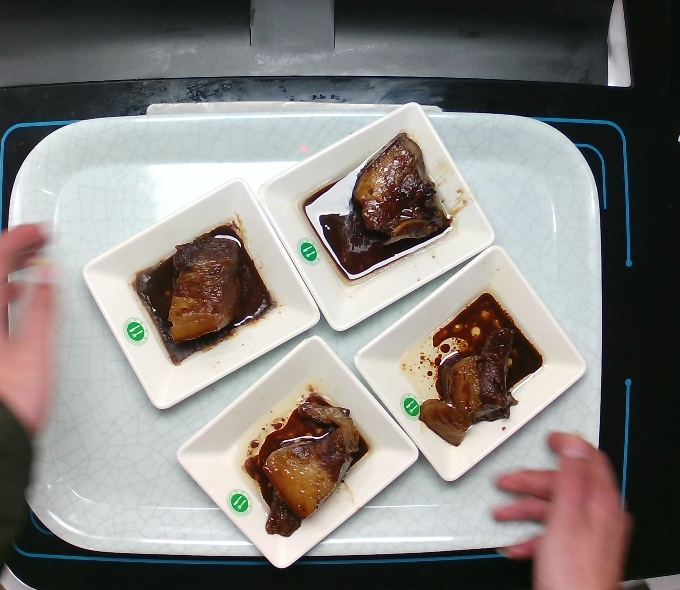wcq-DaKuaiRou: (392, 288, 546, 455), (120, 216, 277, 372), (225, 381, 369, 546), (299, 127, 453, 280)
